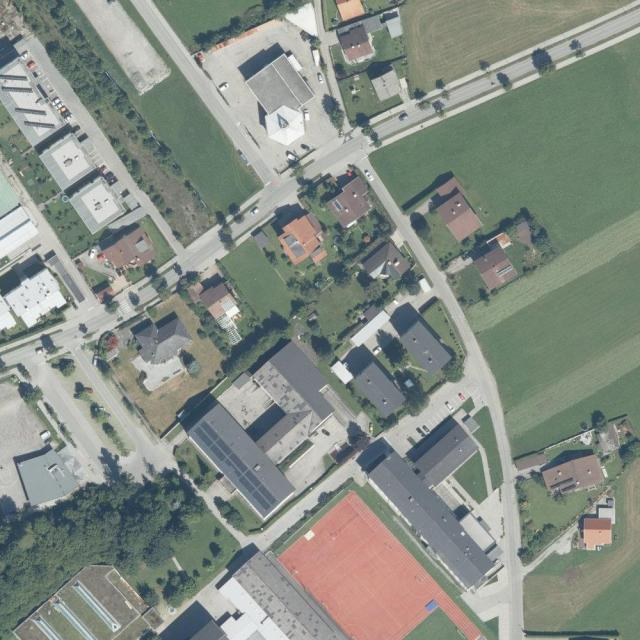agricultural_land: (401, 0, 631, 92)
building: (364, 449, 501, 595), (181, 395, 303, 523), (222, 361, 325, 466), (0, 47, 67, 149), (268, 340, 347, 422), (401, 414, 481, 492), (244, 53, 316, 125), (12, 440, 81, 509), (2, 265, 70, 331), (129, 306, 196, 369), (273, 209, 336, 274), (540, 450, 607, 503), (38, 131, 97, 191), (69, 175, 127, 235), (99, 226, 160, 282), (323, 175, 381, 232), (351, 361, 407, 419), (398, 321, 453, 377), (258, 99, 312, 152), (359, 238, 413, 291), (434, 191, 484, 244), (198, 280, 244, 327), (472, 244, 518, 291), (336, 21, 377, 66), (370, 70, 404, 102), (584, 518, 612, 550), (1, 170, 20, 217), (514, 452, 549, 472), (335, 0, 366, 22), (384, 14, 407, 39), (361, 13, 384, 35), (598, 507, 616, 524)
dryland: (95, 291, 239, 435), (75, 0, 173, 96), (0, 381, 45, 506)
greenland: (12, 0, 224, 247), (80, 0, 264, 220), (525, 461, 640, 640), (218, 237, 301, 332), (515, 471, 591, 564), (188, 0, 311, 54), (215, 308, 298, 388), (154, 0, 261, 47), (417, 294, 474, 382), (304, 271, 375, 340), (495, 202, 563, 274), (40, 189, 103, 259), (335, 63, 404, 125), (405, 201, 466, 268), (285, 257, 356, 308), (183, 297, 239, 358), (322, 175, 380, 232), (468, 405, 506, 490), (383, 364, 433, 419), (452, 452, 504, 504), (296, 180, 343, 237), (446, 263, 492, 312), (371, 27, 406, 61), (379, 335, 412, 369), (613, 435, 640, 468), (361, 1, 403, 14)
metalled_road: (372, 162, 559, 640), (16, 33, 192, 258), (45, 346, 180, 491), (371, 45, 549, 146), (238, 459, 369, 562), (18, 359, 123, 483), (0, 302, 121, 378), (382, 388, 462, 458), (221, 170, 301, 239), (303, 133, 375, 189), (174, 225, 235, 281), (22, 195, 63, 256), (436, 376, 471, 412), (107, 205, 147, 236), (0, 154, 27, 197), (74, 273, 96, 303), (53, 246, 77, 273), (162, 268, 182, 288)
